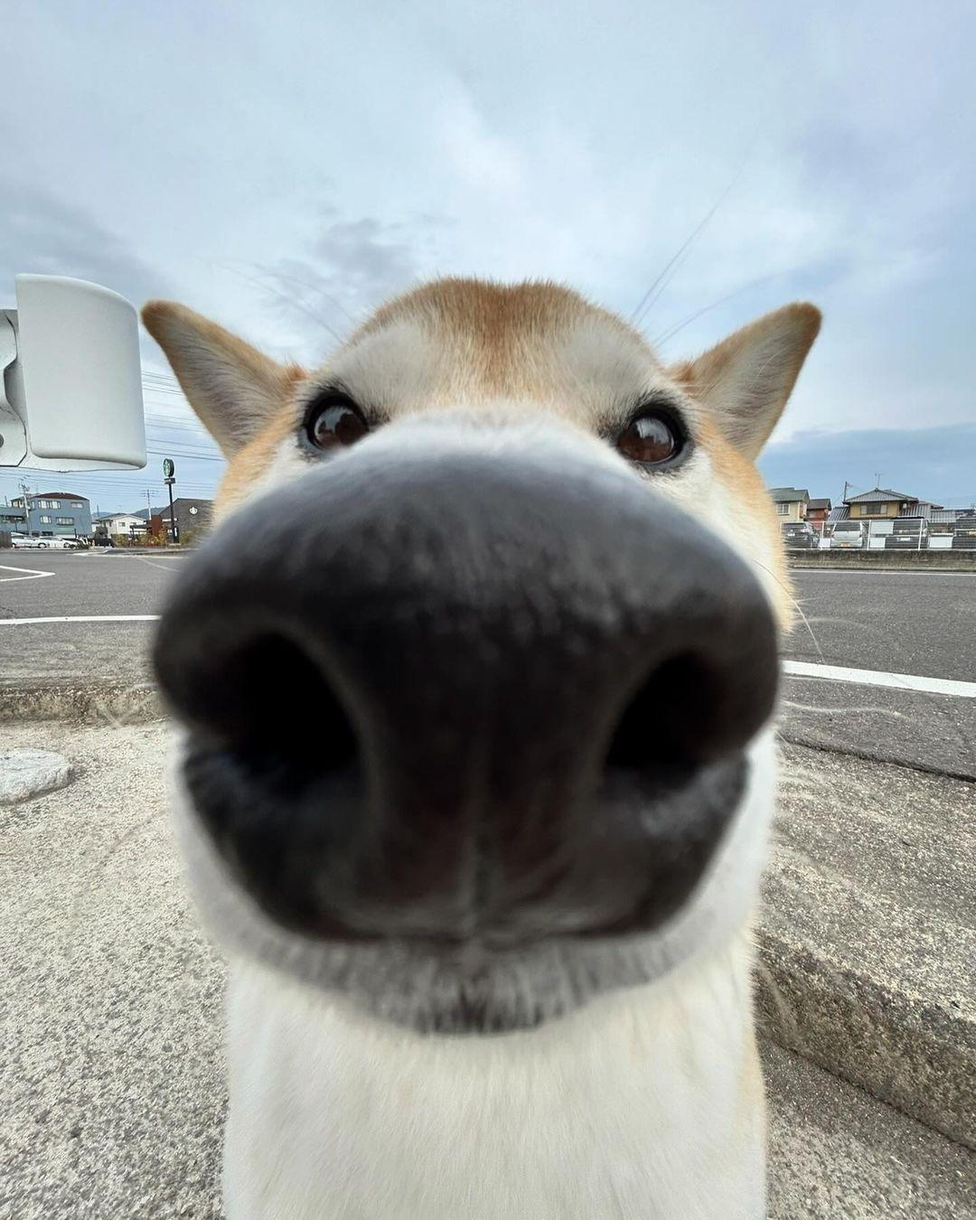adult_dog: (142, 277, 824, 1220)
